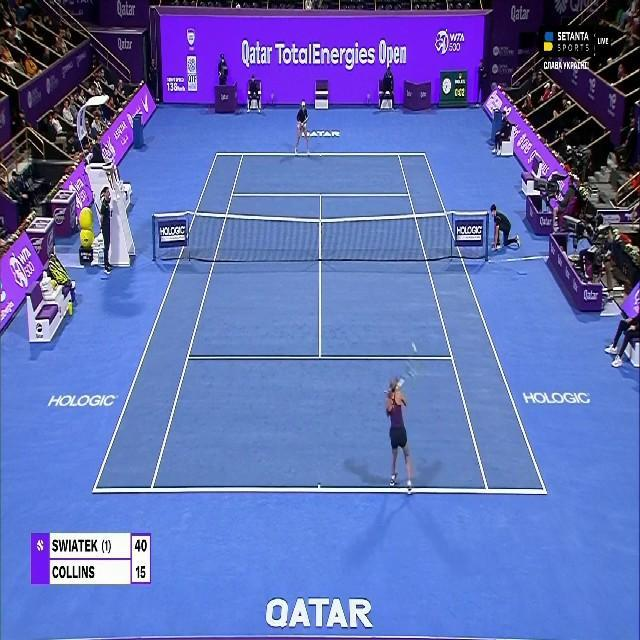left side: (94, 154, 243, 490), (398, 154, 546, 492)
player: (382, 364, 415, 492), (293, 99, 312, 157)
